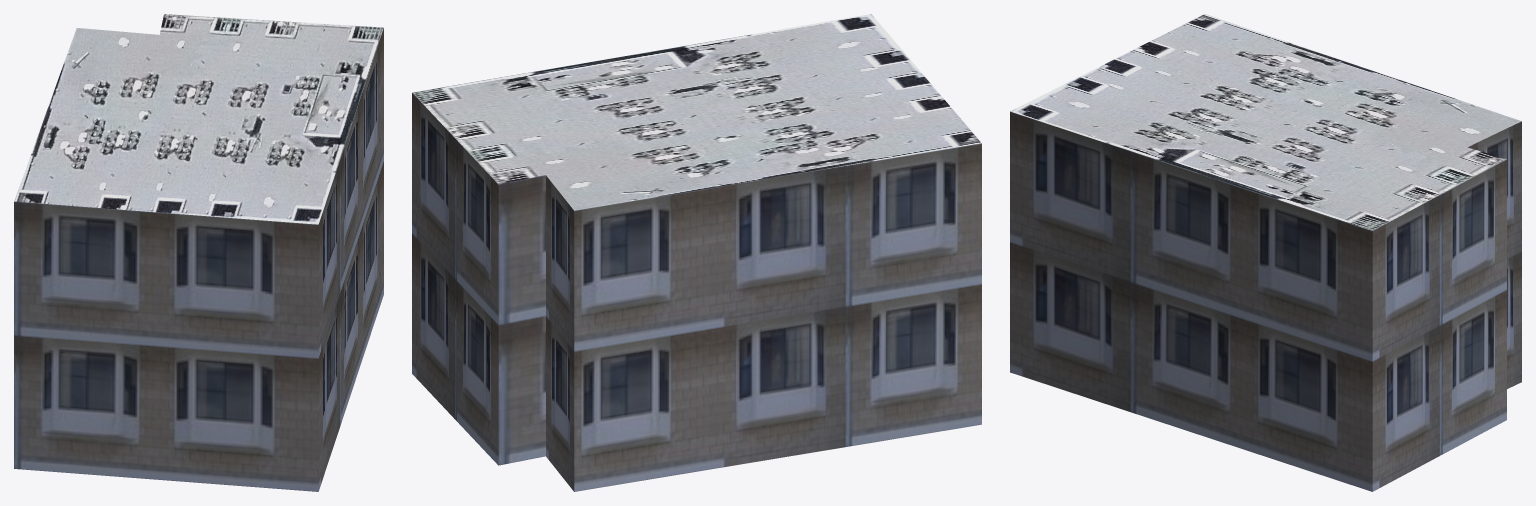
The model's file is ResTex__1191.fbx.
3 views of the same model, side by side, from view 1: azimuth 30°, elevation 25°; view 2: azimuth 150°, elevation 25°; view 3: azimuth 270°, elevation 25° (orthographic). The views are drawn at different scales.
Visible parts, largest first — view 1: CityEngineMaterial_3_m, CityEngineMaterial_8_m; view 2: CityEngineMaterial_3_m, CityEngineMaterial_8_m; view 3: CityEngineMaterial_3_m, CityEngineMaterial_8_m.
Boxes of the visible parts, left/top/right/bottom form: CityEngineMaterial_3_m: left=14, top=28, right=383, bottom=491; CityEngineMaterial_8_m: left=14, top=14, right=383, bottom=224; CityEngineMaterial_3_m: left=412, top=93, right=981, bottom=491; CityEngineMaterial_8_m: left=412, top=14, right=981, bottom=210; CityEngineMaterial_3_m: left=1010, top=111, right=1521, bottom=491; CityEngineMaterial_8_m: left=1010, top=14, right=1521, bottom=230.
Bounding box in the file's own units: 10.7 × 6 × 10.67.
2 materials, 2 textured.
